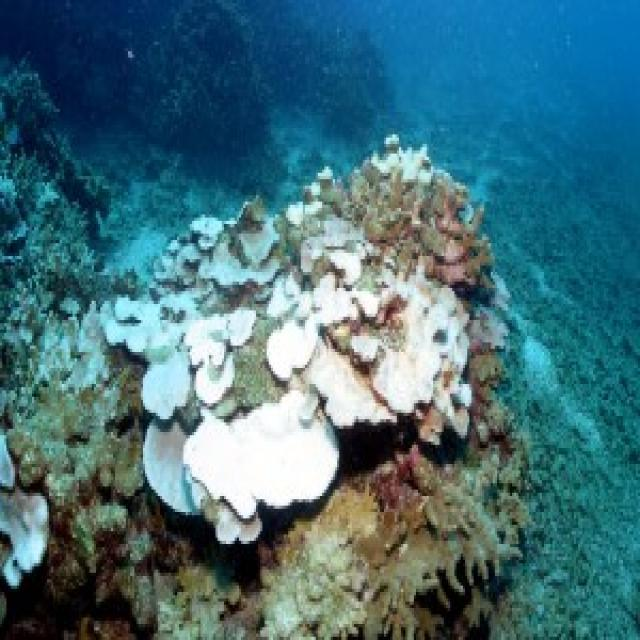Bleached: (267, 277, 470, 428), (142, 394, 340, 548), (1, 302, 106, 416), (186, 311, 261, 401), (300, 213, 381, 286), (142, 319, 193, 421), (1, 492, 47, 589), (101, 301, 184, 351), (198, 246, 281, 286), (149, 279, 216, 313), (376, 146, 435, 181), (239, 214, 280, 263), (150, 241, 200, 281), (469, 304, 509, 347), (190, 217, 225, 251), (287, 199, 325, 227), (1, 430, 18, 488), (434, 168, 469, 189), (37, 181, 59, 214), (459, 200, 475, 223), (1, 178, 17, 201), (80, 245, 97, 266), (303, 181, 322, 198), (5, 127, 19, 147), (317, 166, 334, 181)
Healthy: (339, 419, 532, 640), (1, 342, 143, 640), (1, 57, 113, 268), (321, 169, 496, 282), (142, 544, 340, 640), (1, 269, 140, 302), (472, 347, 508, 460), (235, 353, 277, 406)
